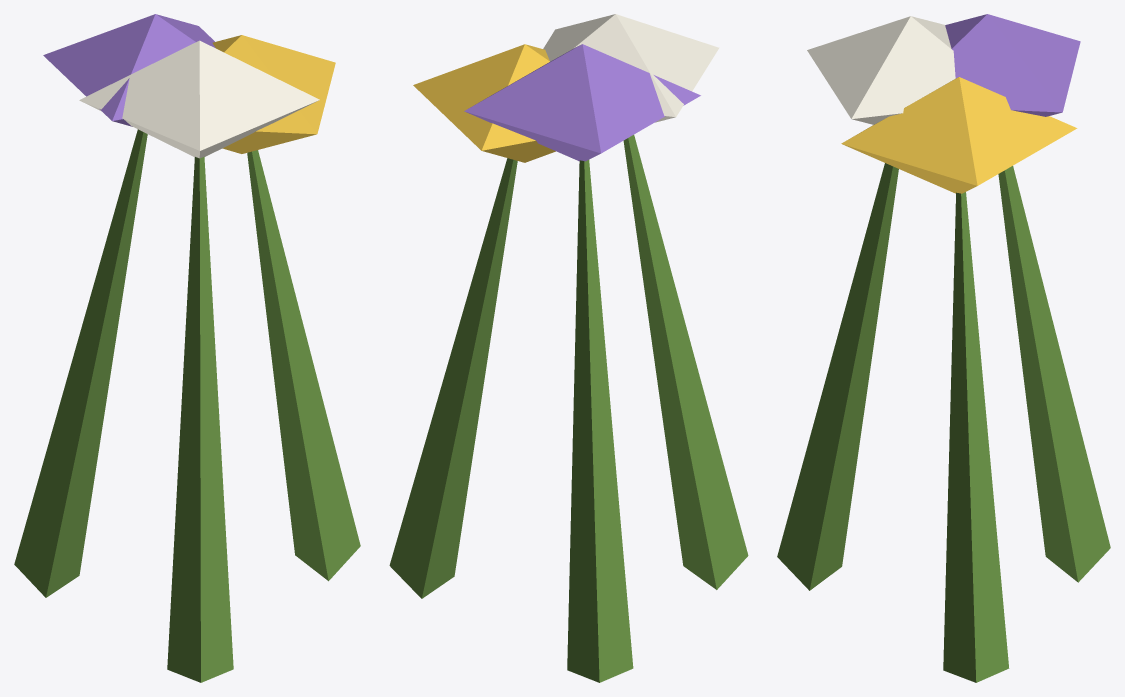
Rendered from world_flowers_a.obj.
3 renders of one model, left to right at view 1: azimuth 30°, elevation 25°; view 2: azimuth 150°, elevation 25°; view 3: azimuth 270°, elevation 25°, orthographic.
Visible parts, largest first — view 1: world_flowers_a; view 2: world_flowers_a; view 3: world_flowers_a.
Boxes of the visible parts, <box> form: world_flowers_a: <box>14,14,360,682</box>; world_flowers_a: <box>389,14,748,682</box>; world_flowers_a: <box>777,14,1110,682</box>.
Size of the model in its own units: 0.5999 by 1.18 by 0.6134.
